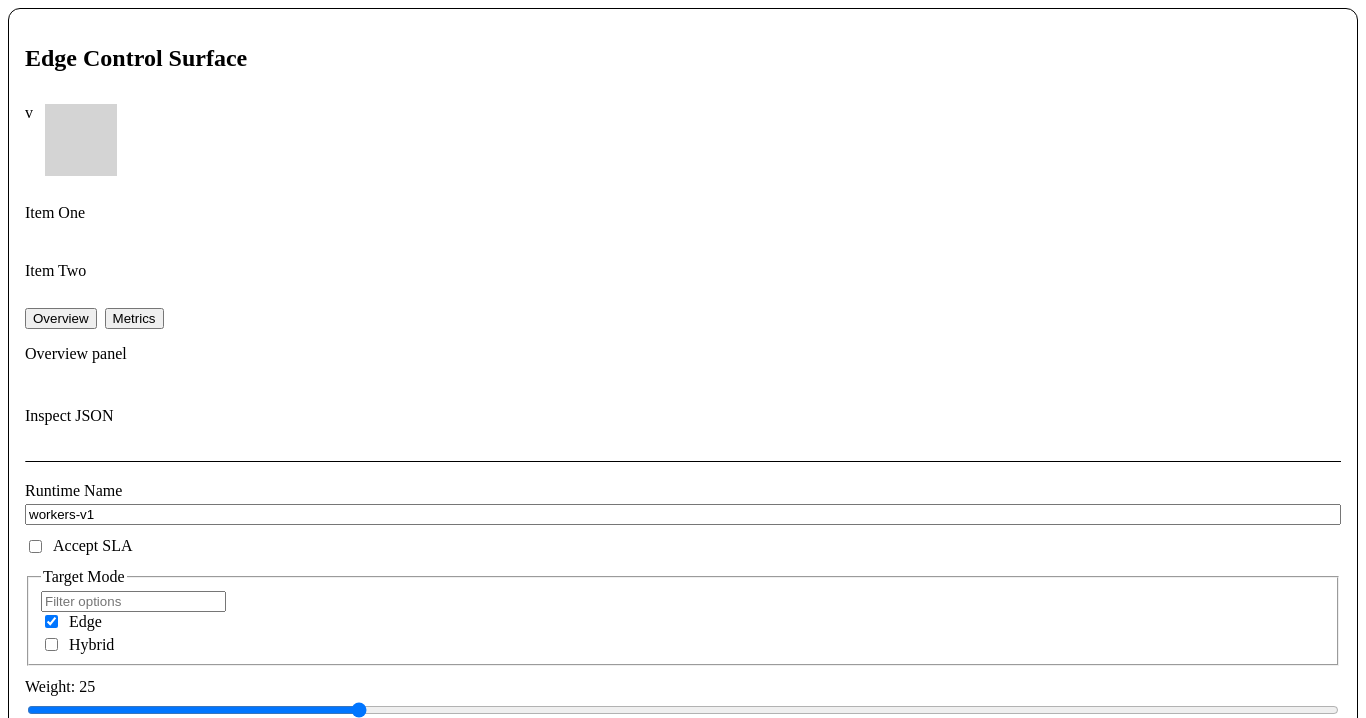
A2uiVinextSurface React 19 SSR & interactive DOM boundary › handles tab switches, modals, form mutations, and dispatches canonical v1.0 actions
Later steps or results of the test are not shown.
Step 1. Click the tab "Metrics" → (134, 318), box [104,308,164,329]
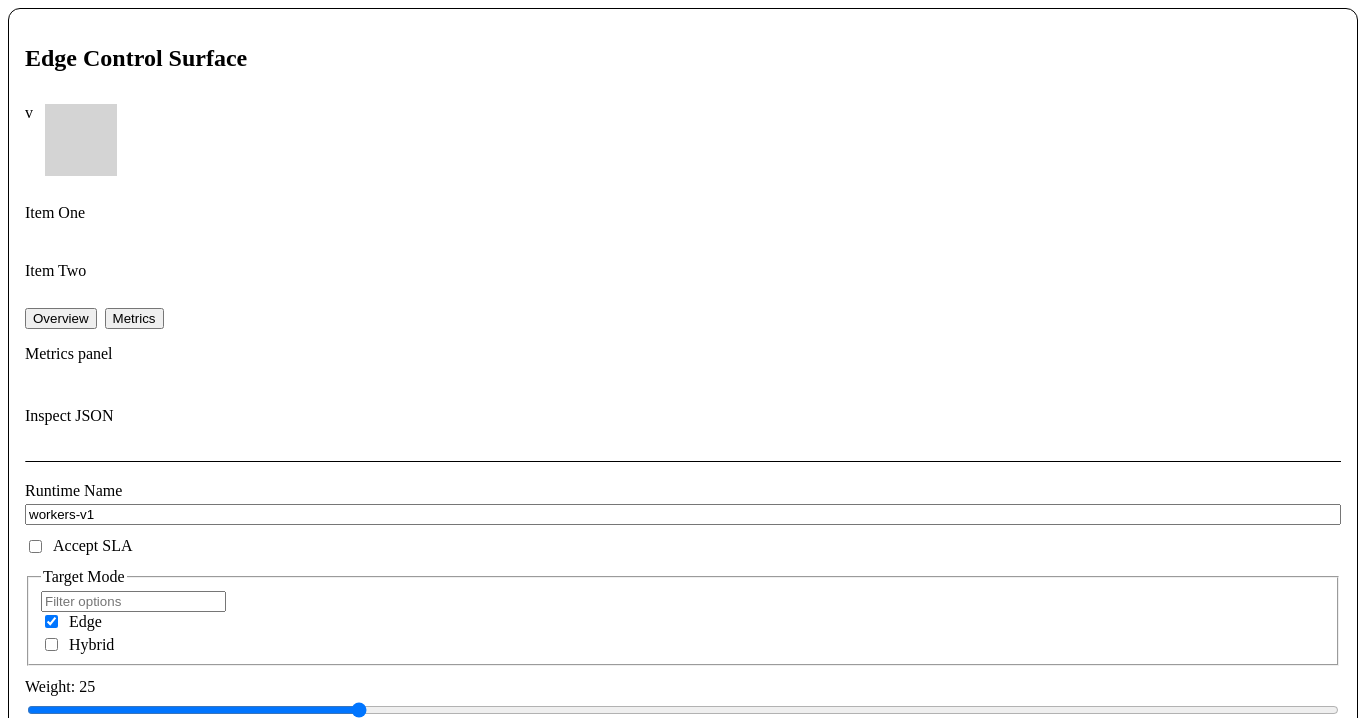
Expected: the text "Metrics panel" is shown, [25,345,112,362]
Step 2. Click the element showing "Inspect JSON" → (69, 415), box [25,407,113,424]
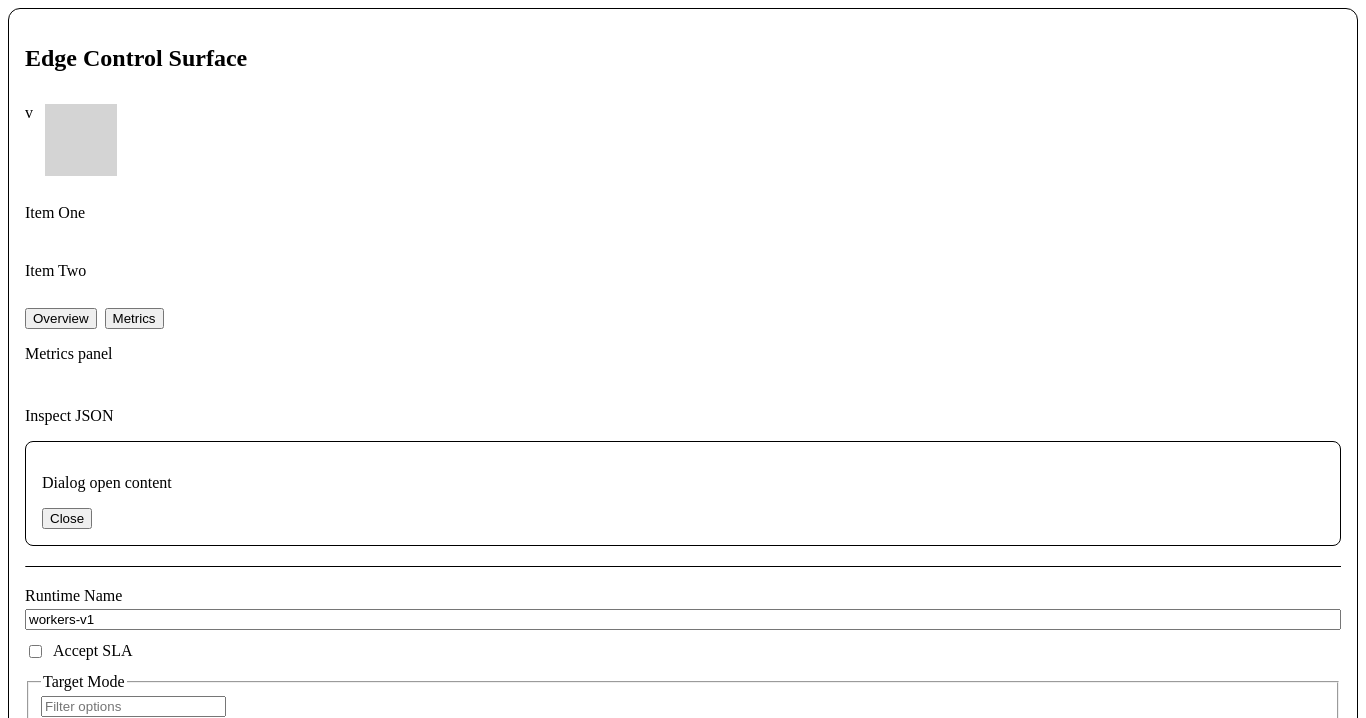
Expected: the dialog shows "Dialog open content", [42,474,172,491]
